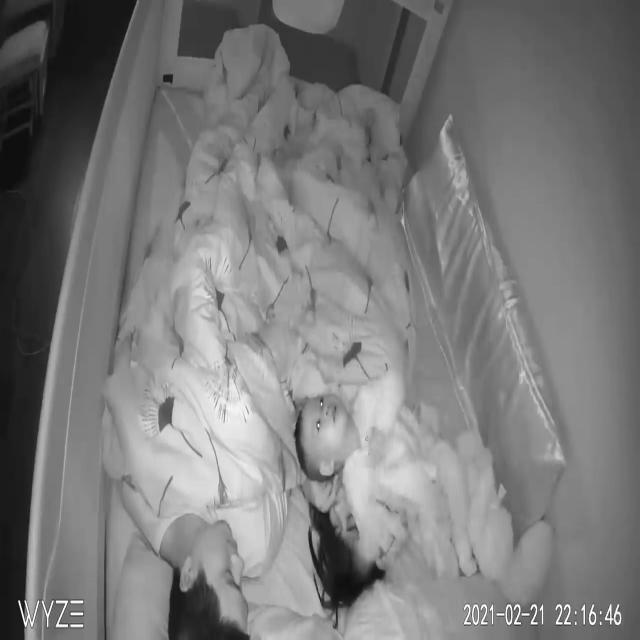baby: (296, 376, 482, 588)
